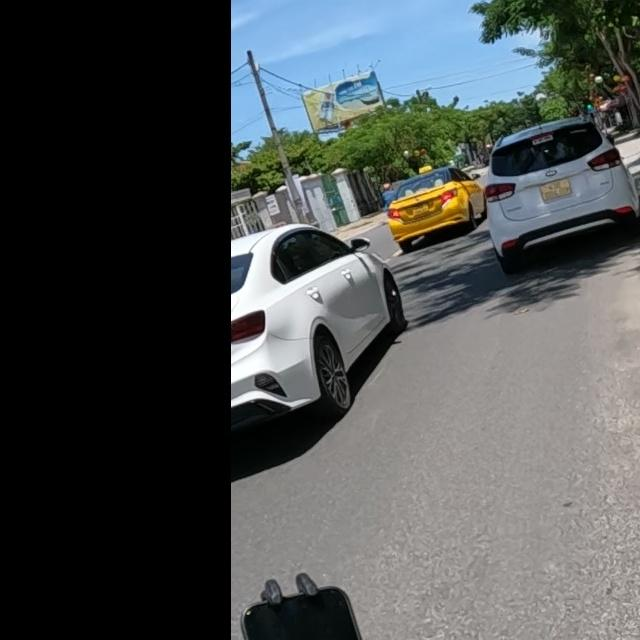license-plate: (538, 177, 572, 202)
